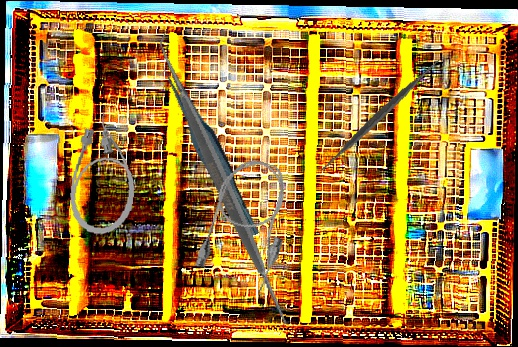Cannula: (192, 151, 304, 296), (65, 108, 145, 239)
Spatula Surgical: (67, 29, 379, 336), (311, 45, 450, 186)
Tissue Forceps: (160, 56, 261, 244)
